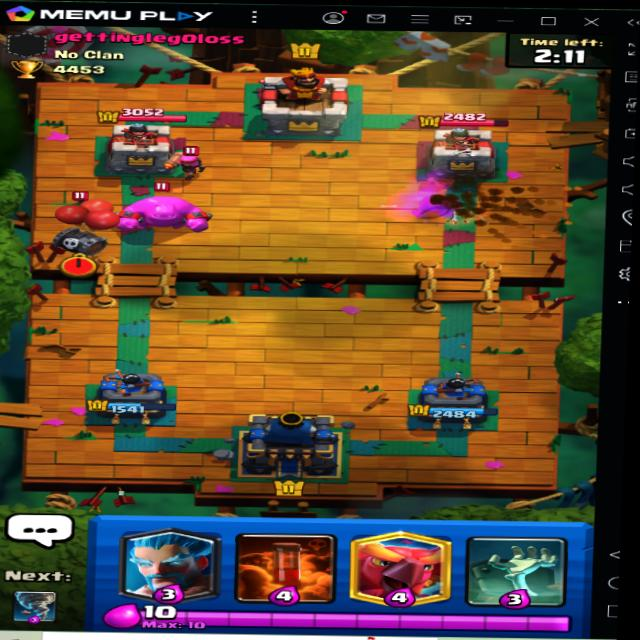electro-golem: (117, 183, 217, 236)
firecracker: (159, 143, 205, 178)
skeleton-barrel: (46, 181, 124, 270)
